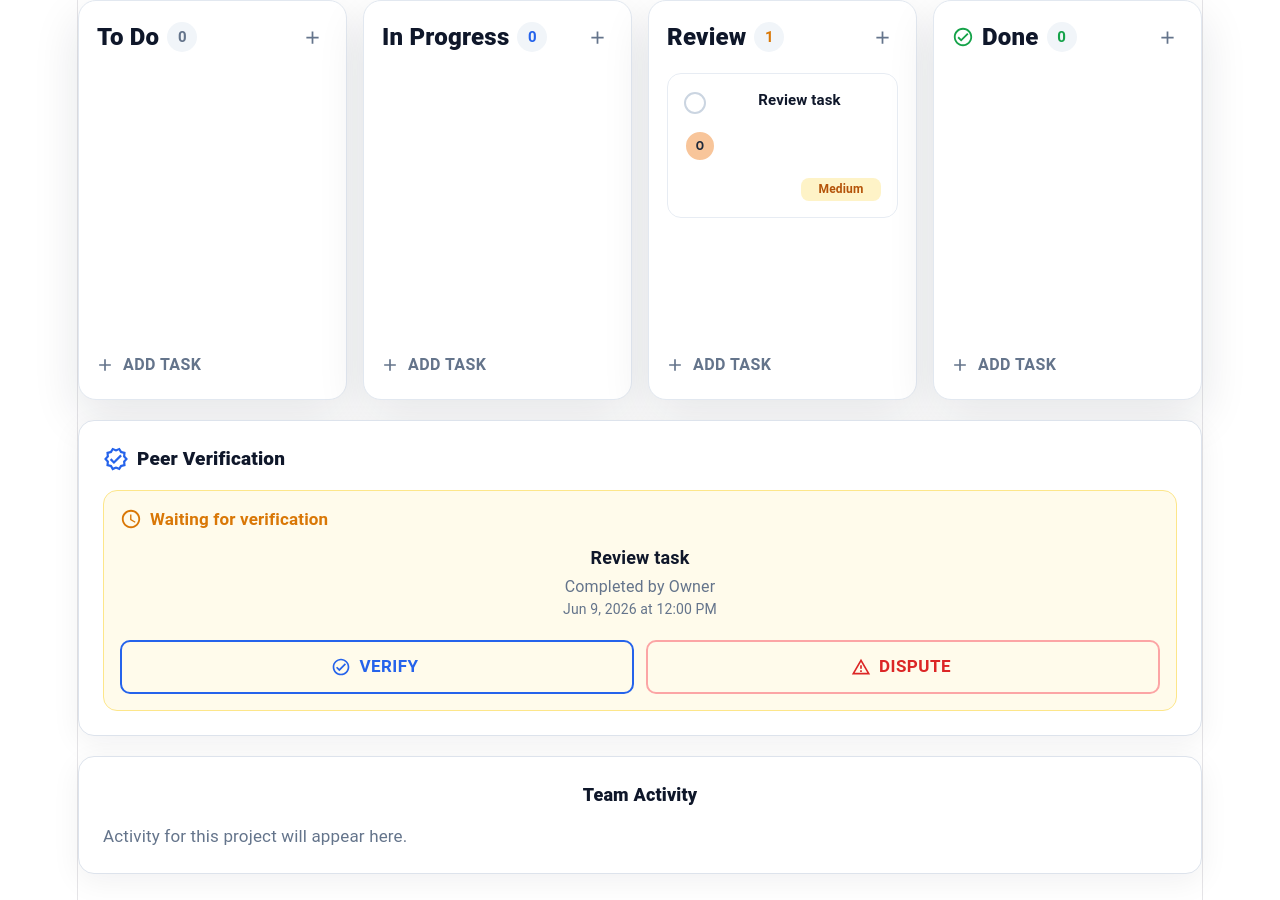
Test: TasksTab dispute flow › shows a success popup after verifying from the peer verification card
The image size is (1280, 900).
Click the button "Verify": (377, 667) [120, 640, 634, 694]
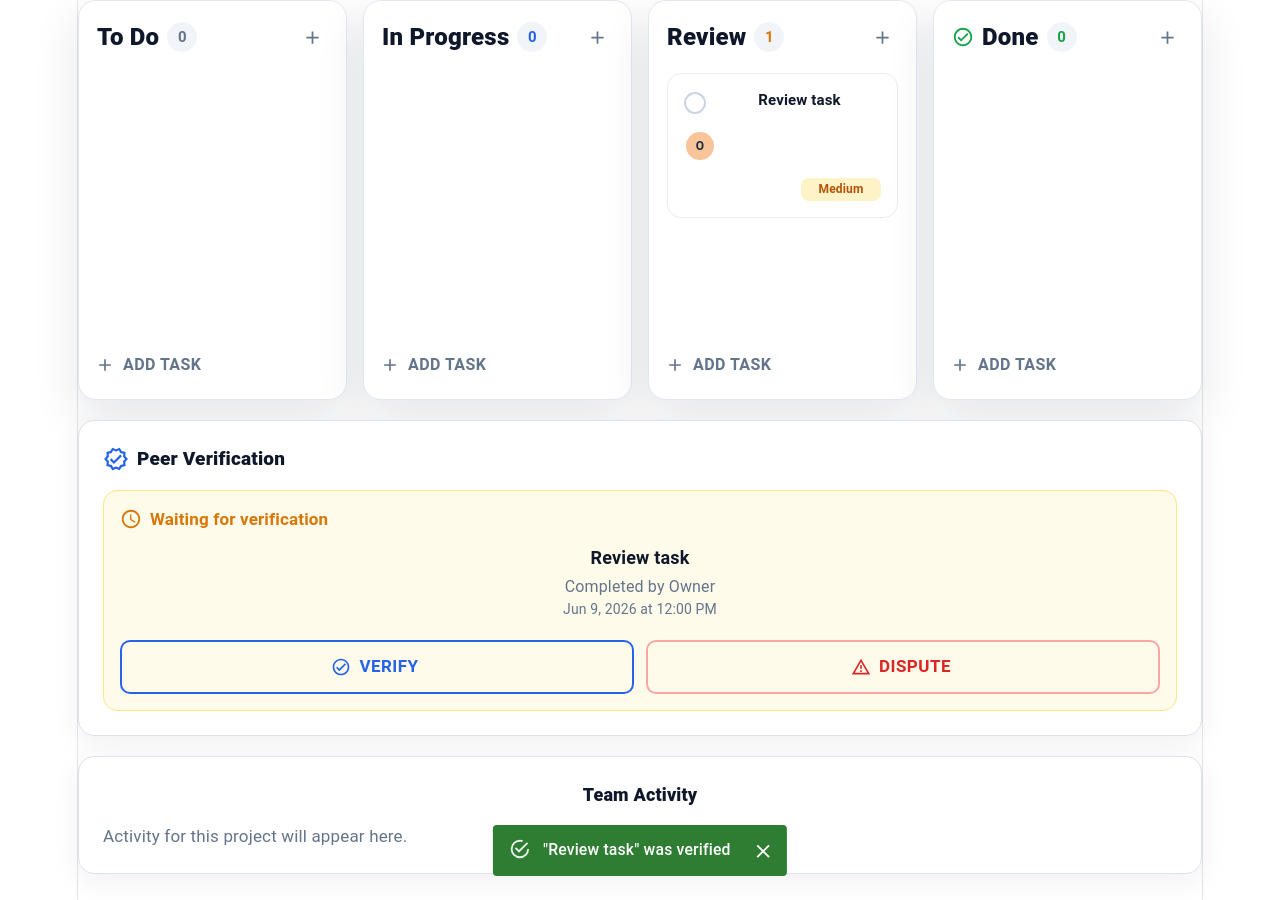
expect the text "\"Review task\" was verified" is shown: met, box [543, 840, 731, 860]
